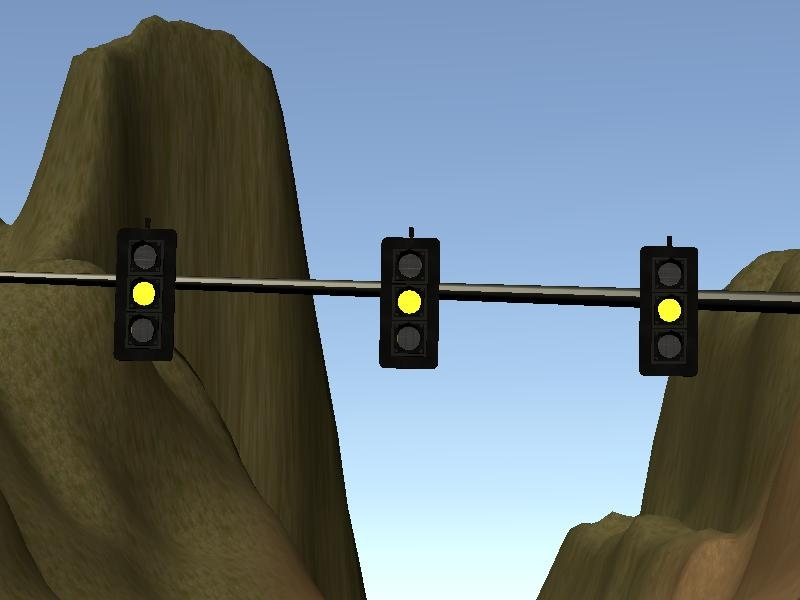yellow: (634, 241, 707, 384), (374, 237, 440, 370), (118, 229, 172, 359)
